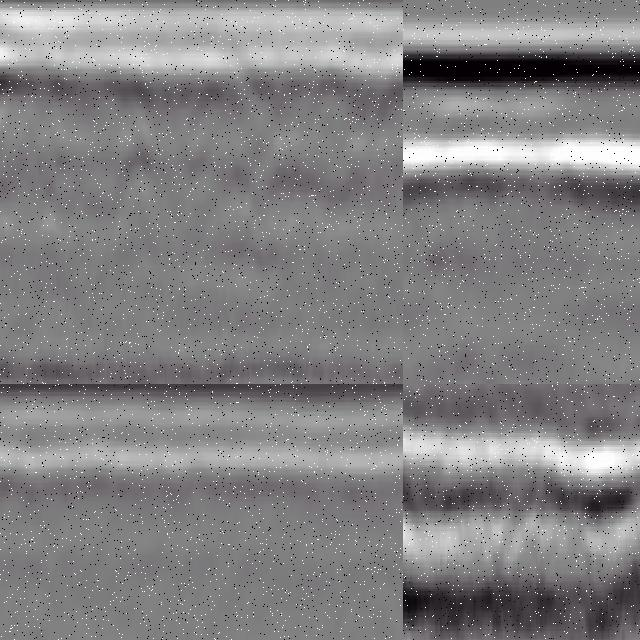loose: (404, 385, 539, 640)
